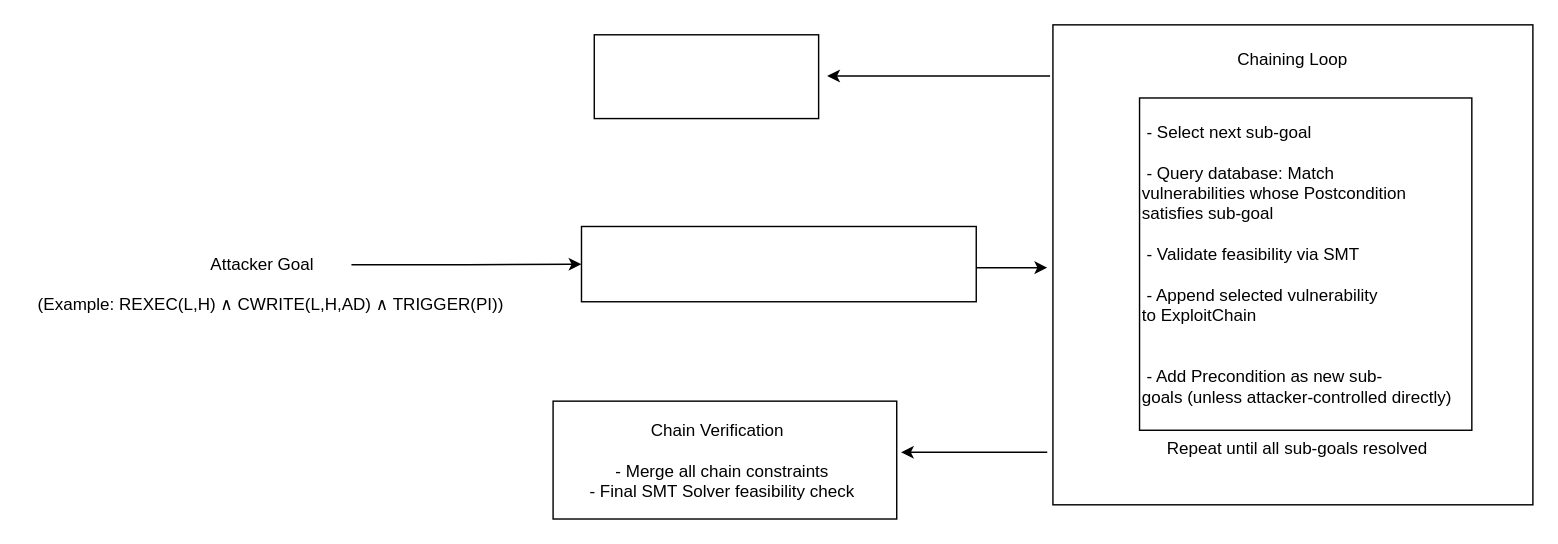
Image size: 1558x544. Some labels were removed from this diagram. The centre of each missing label's shape, as x and y in pixels:
"Initialize Sub-Goals Set {REXEC(L,H), CWRITE(L,H,AD), TRIGGER(PI)}" goes at pixel 778 263.
"Vulnerability Database (Precondition, Postcondition)" goes at pixel 706 76.
